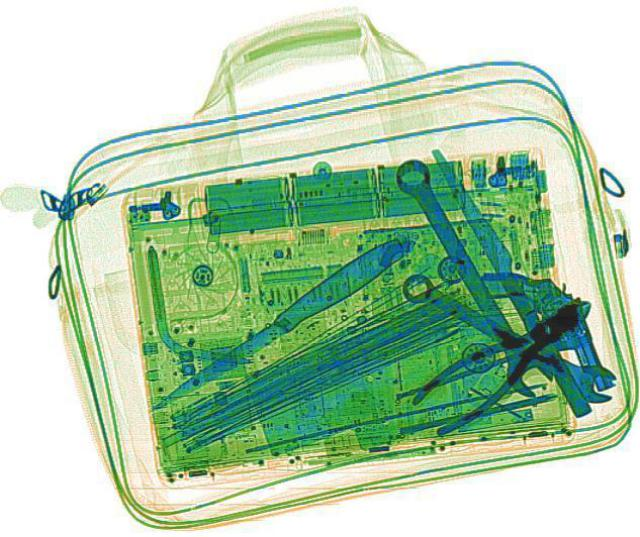Gun: (474, 252, 616, 405)
Knife: (136, 232, 412, 419), (427, 145, 593, 416)
Pliers: (393, 283, 611, 440)
Wrench: (382, 151, 564, 402), (392, 266, 626, 407)
